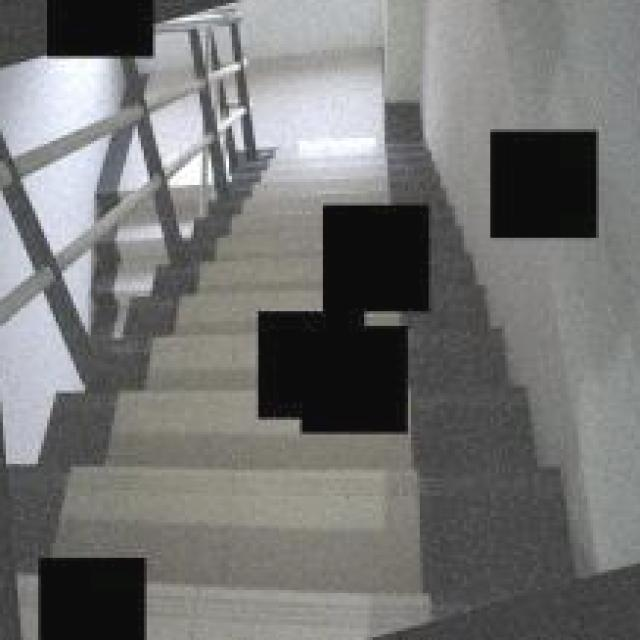downstair: (236, 174, 321, 292)
